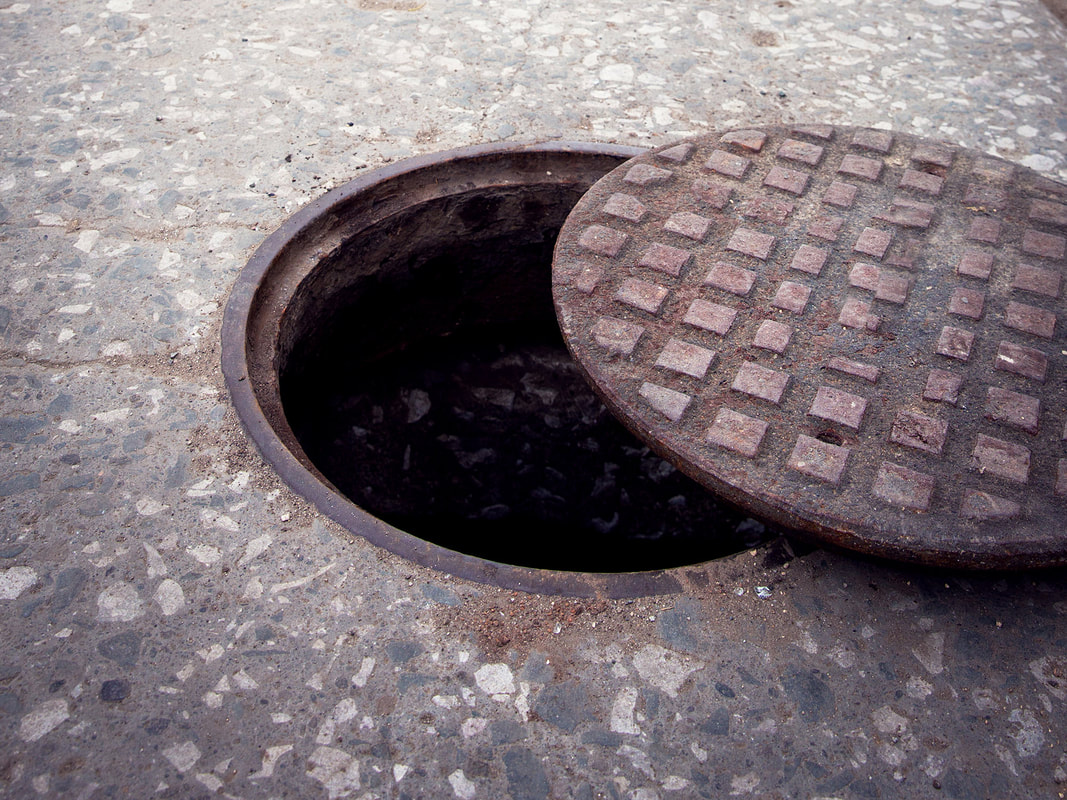open_manhole: (246, 115, 761, 617)
